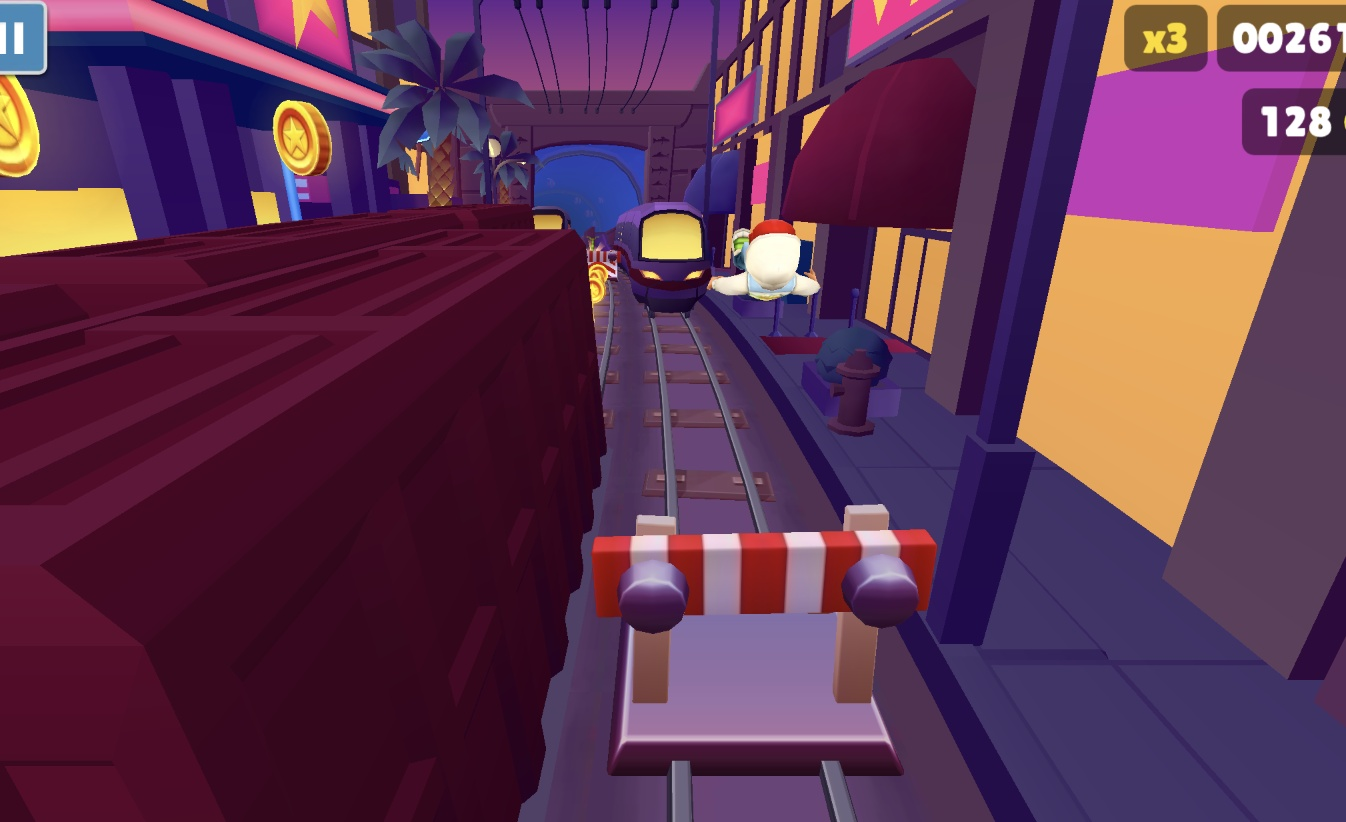ground_barrier: (592, 505, 938, 777), (586, 249, 620, 281)
train: (0, 203, 607, 822), (618, 201, 716, 319), (532, 207, 571, 232)
